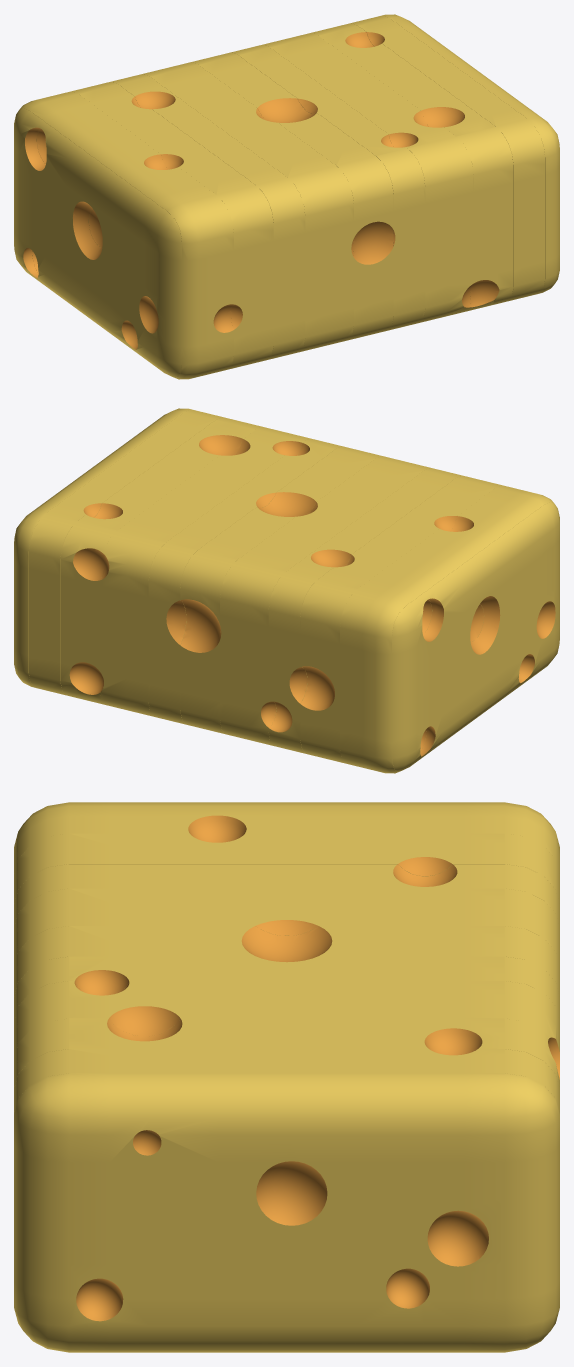
The model's file is Cheez_slice 1.fbx.
3 renders of one model, top to bottom at view 1: azimuth 30°, elevation 25°; view 2: azimuth 150°, elevation 25°; view 3: azimuth 270°, elevation 25°, orthographic. The views are drawn at different scales.
Parts seen in each view (by area): view 1: Cheese.021, Cheese.020, Cheese.017, Cheese.014, Cheese.013, Cheese.019, Cheese.016, Cheese.018, Cheese.015, Cheese.012, Cheese.011; view 2: Cheese.021, Cheese.020, Cheese.017, Cheese.014, Cheese.013, Cheese.019, Cheese.016, Cheese.015, Cheese.018, Cheese.012, Cheese.011; view 3: Cheese.011, Cheese.014, Cheese.017, Cheese.020, Cheese.019, Cheese.016, Cheese.013, Cheese.015, Cheese.012, Cheese.018.
Part boxes in pixels (bbox=[...]): Cheese.021: bbox=[14, 108, 181, 377]; Cheese.020: bbox=[20, 91, 233, 379]; Cheese.017: bbox=[143, 62, 353, 352]; Cheese.014: bbox=[263, 32, 473, 322]; Cheese.013: bbox=[312, 23, 513, 310]; Cheese.019: bbox=[72, 81, 273, 369]; Cheese.016: bbox=[192, 52, 393, 339]; Cheese.018: bbox=[112, 74, 305, 359]; Cheese.015: bbox=[232, 44, 425, 330]; Cheese.012: bbox=[352, 15, 544, 301]; Cheese.011: bbox=[383, 14, 559, 293]; Cheese.021: bbox=[392, 502, 559, 771]; Cheese.020: bbox=[340, 485, 553, 773]; Cheese.017: bbox=[220, 456, 430, 746]; Cheese.014: bbox=[100, 426, 310, 716]; Cheese.013: bbox=[60, 417, 261, 704]; Cheese.019: bbox=[300, 475, 501, 763]; Cheese.016: bbox=[180, 446, 381, 733]; Cheese.015: bbox=[148, 438, 341, 724]; Cheese.018: bbox=[268, 468, 461, 753]; Cheese.012: bbox=[29, 409, 221, 695]; Cheese.011: bbox=[14, 408, 190, 687]; Cheese.011: bbox=[14, 1073, 559, 1352]; Cheese.014: bbox=[14, 981, 559, 1076]; Cheese.017: bbox=[14, 888, 559, 965]; Cheese.020: bbox=[14, 802, 559, 873]; Cheese.019: bbox=[14, 833, 559, 903]; Cheese.016: bbox=[14, 926, 559, 996]; Cheese.013: bbox=[14, 1018, 559, 1088]; Cheese.015: bbox=[14, 956, 559, 1020]; Cheese.012: bbox=[14, 1049, 559, 1113]; Cheese.018: bbox=[14, 864, 559, 928].
Size of the model in its own units: 395 by 164 by 297.
